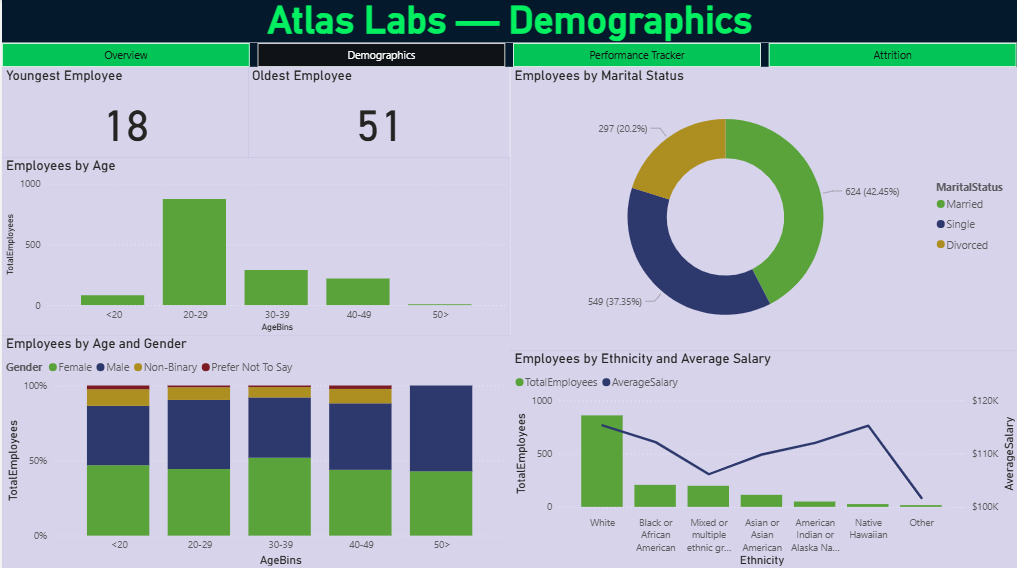

Layout of this report page (visuals, bound fields, positions):
{"tool":"powerbi","page":{"name":"Demographics","canvas":[1280,720],"ordinal":1},"visuals":[{"type":"shape","title":"Atlas Labs — Demographics","box":[0,0,1280,56],"z":0},{"type":"card","title":"Youngest Employee","fields":{"Values":["Min(DimEmployee.Age)"]},"box":[0,86,310.9,113.8],"z":0},{"type":"pageNavigator","box":[0,56,1280,30],"z":1000},{"type":"card","title":"Oldest Employee","fields":{"Values":["Max(DimEmployee.Age)"]},"box":[310.9,86,329.1,113.8],"z":1000},{"type":"columnChart","title":"Employees by Age","fields":{"Category":["DimEmployee.AgeBins"],"Y":["_Measures.TotalEmployees"]},"box":[0,200.1,640,225.2],"z":2000},{"type":"hundredPercentStackedColumnChart","title":"Employees by Age and Gender","fields":{"Category":["DimEmployee.AgeBins"],"Series":["DimEmployee.Gender"],"Y":["_Measures.TotalEmployees"]},"box":[0,425.2,640.6,294.8],"z":3000},{"type":"donutChart","title":"Employees by Marital Status","fields":{"Category":["DimEmployee.MaritalStatus"],"Y":["_Measures.TotalEmployees"]},"box":[640,86,640,357.7],"z":4000},{"type":"lineStackedColumnComboChart","title":"Employees by Ethnicity and Average Salary","fields":{"Category":["DimEmployee.Ethnicity"],"Y":["_Measures.TotalEmployees"],"Y2":["_Measures.AverageSalary"]},"box":[640,443.3,640,276.7],"z":5000}]}

Visuals, with their boxes in screenshot pixels (x1, y1, x2, y2), scaled from the page's 1280x720 canvas onto the 1017x568 screenshot:
"Atlas Labs — Demographics" shape: Rect(0, 0, 1016, 44)
"Youngest Employee" card: Rect(0, 68, 247, 158)
pageNavigator: Rect(0, 44, 1016, 68)
"Oldest Employee" card: Rect(247, 68, 508, 158)
"Employees by Age" columnChart: Rect(0, 158, 508, 336)
"Employees by Age and Gender" hundredPercentStackedColumnChart: Rect(0, 335, 509, 567)
"Employees by Marital Status" donutChart: Rect(508, 68, 1016, 350)
"Employees by Ethnicity and Average Salary" lineStackedColumnComboChart: Rect(508, 350, 1016, 567)
